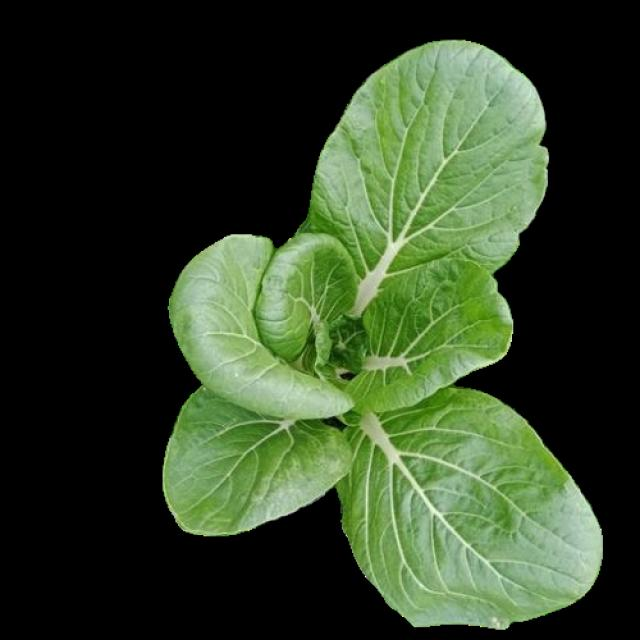healthy: (162, 37, 600, 625)
mature: (165, 40, 603, 627)
